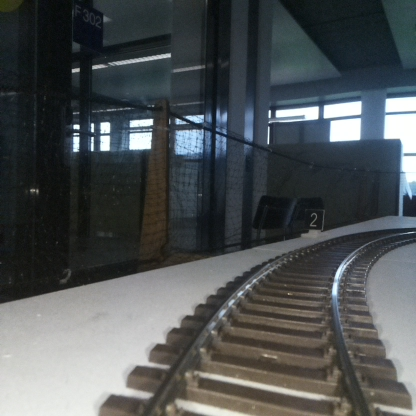black-stop-2: (305, 209, 323, 237)
